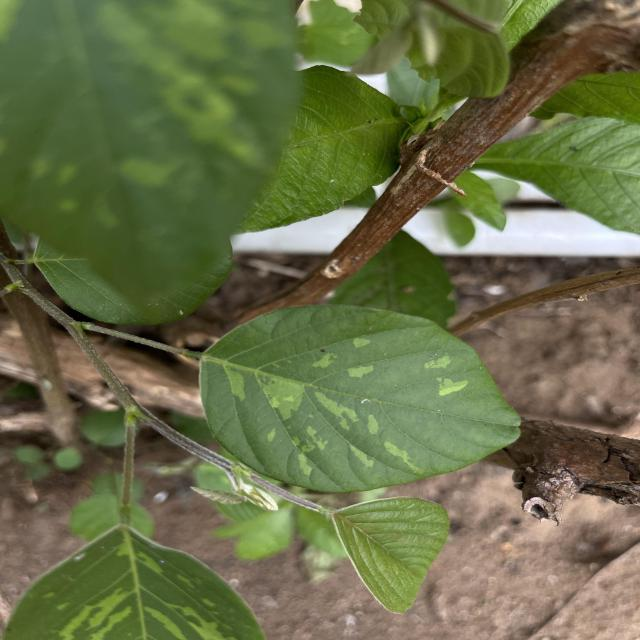Desmodium gangeticum: (195, 300, 526, 497)
